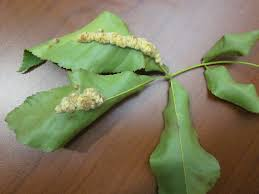Diseased_Leaves: (76, 32, 156, 60), (52, 93, 108, 114), (50, 39, 58, 43)
